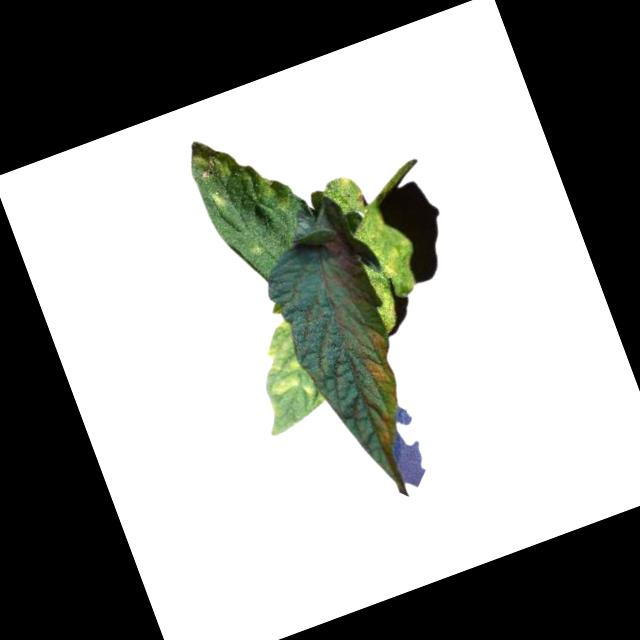Leaf_Mold: (181, 116, 294, 236), (341, 199, 436, 332), (248, 317, 323, 419), (348, 326, 402, 401), (368, 410, 401, 453)
